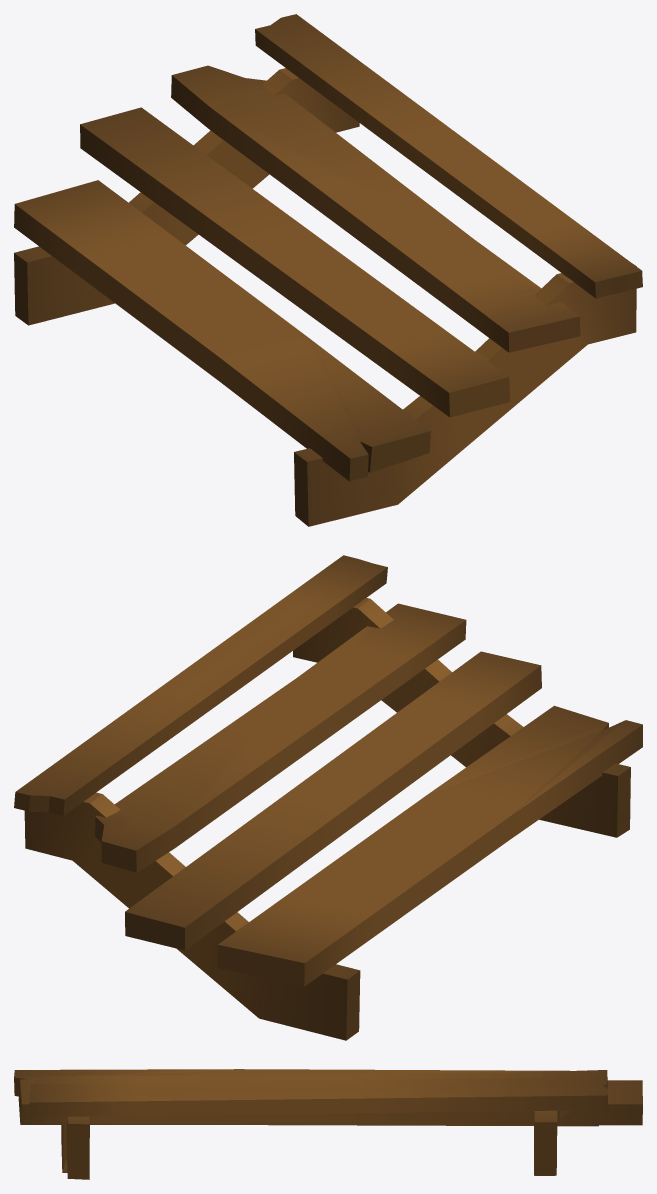
Rendered from Pond_Boardwalk-Stairs-01.FBX.
3 renders of one model, top to bottom at view 1: azimuth 30°, elevation 25°; view 2: azimuth 150°, elevation 25°; view 3: azimuth 270°, elevation 25°, orthographic. The views are drawn at different scales.
Visible parts, largest first — view 1: Pond_Boardwalk-Stairs-01; view 2: Pond_Boardwalk-Stairs-01; view 3: Pond_Boardwalk-Stairs-01.
Part boxes in pixels (<box>): Pond_Boardwalk-Stairs-01: <box>14,14,642,526</box>; Pond_Boardwalk-Stairs-01: <box>14,555,642,1040</box>; Pond_Boardwalk-Stairs-01: <box>14,1069,642,1179</box>.
Size of the model in its own units: 145 by 84.66 by 281.
1 material, 1 textured.
